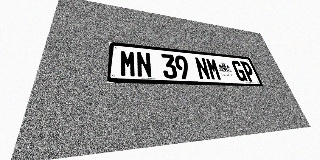3: (161, 54, 178, 79)
9: (174, 55, 191, 79)
G: (231, 60, 248, 81)
M: (120, 50, 136, 77), (205, 58, 222, 80)
N: (136, 51, 152, 78), (194, 57, 211, 80)
P: (240, 61, 257, 82)
